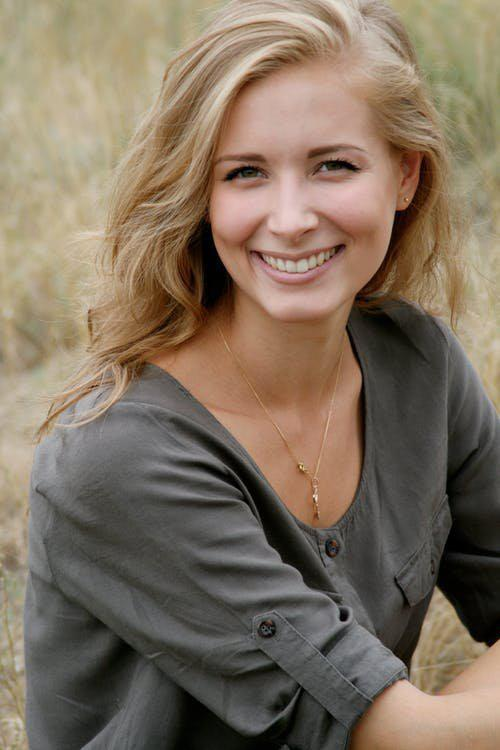Sober: (204, 87, 388, 311)
